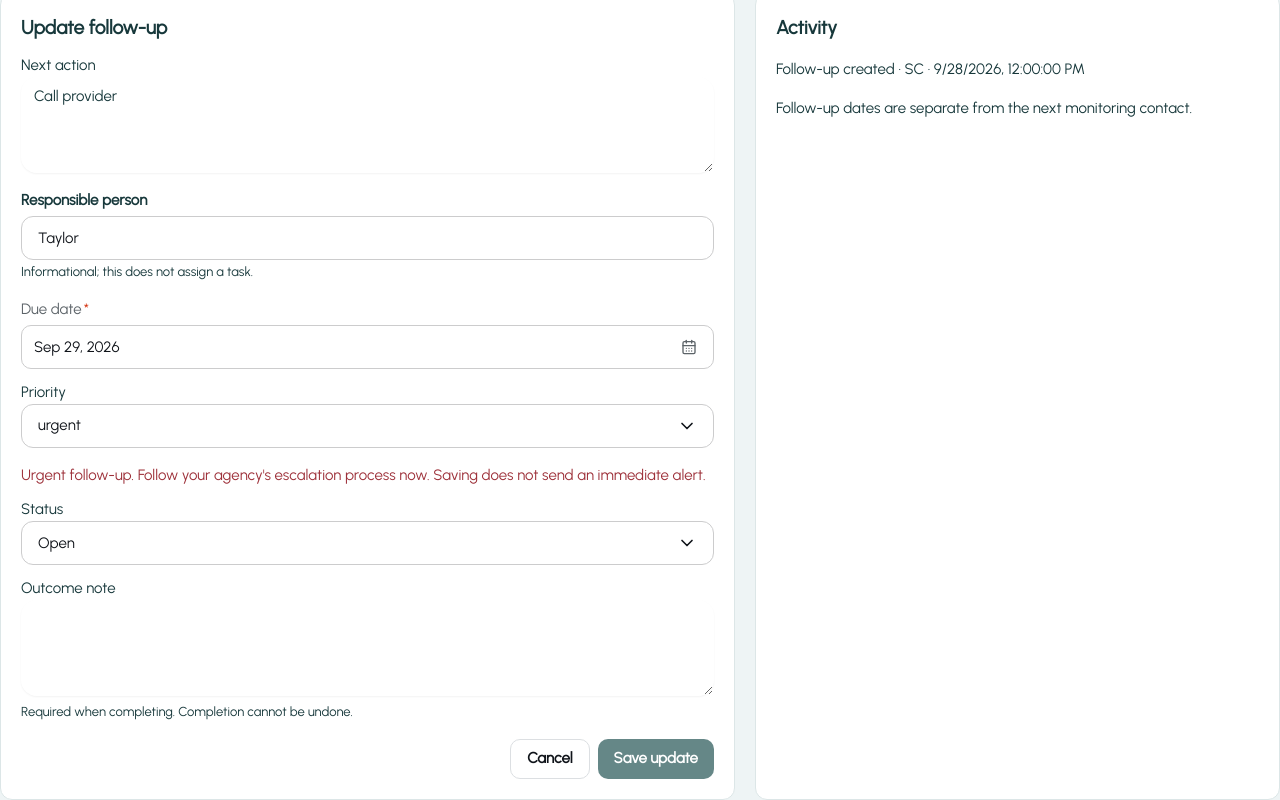
Test: requires outcome, saves only status/outcome/revision and reports success
Later steps or results of the test are not shown.
(page scrolled)
Expected: the text "Urgent follow-up. Follow your agency's escalation process now" is shown, [21,466,706,484]
Click the dropdown named "Status": (56, 543) [21,521,714,565]
(page scrolled)
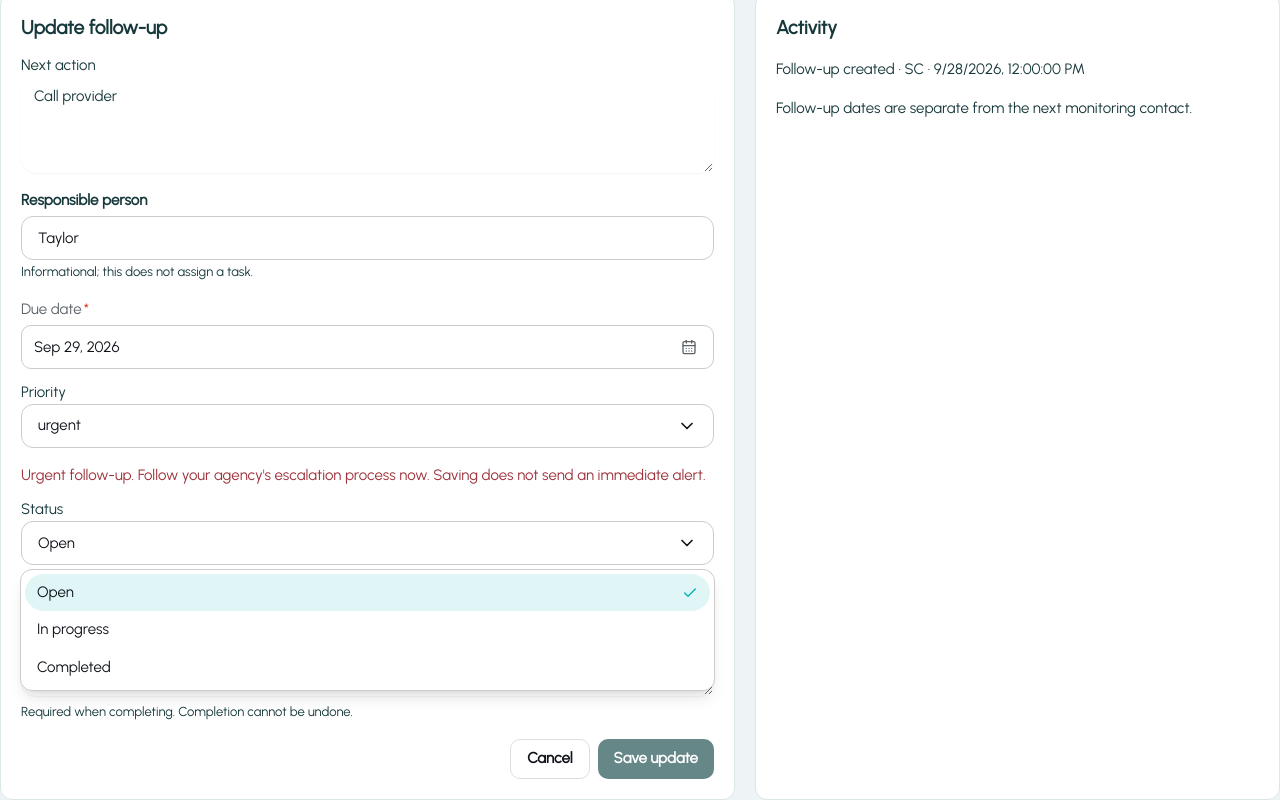
Click the option "Completed": (74, 667) [37,658,111,676]
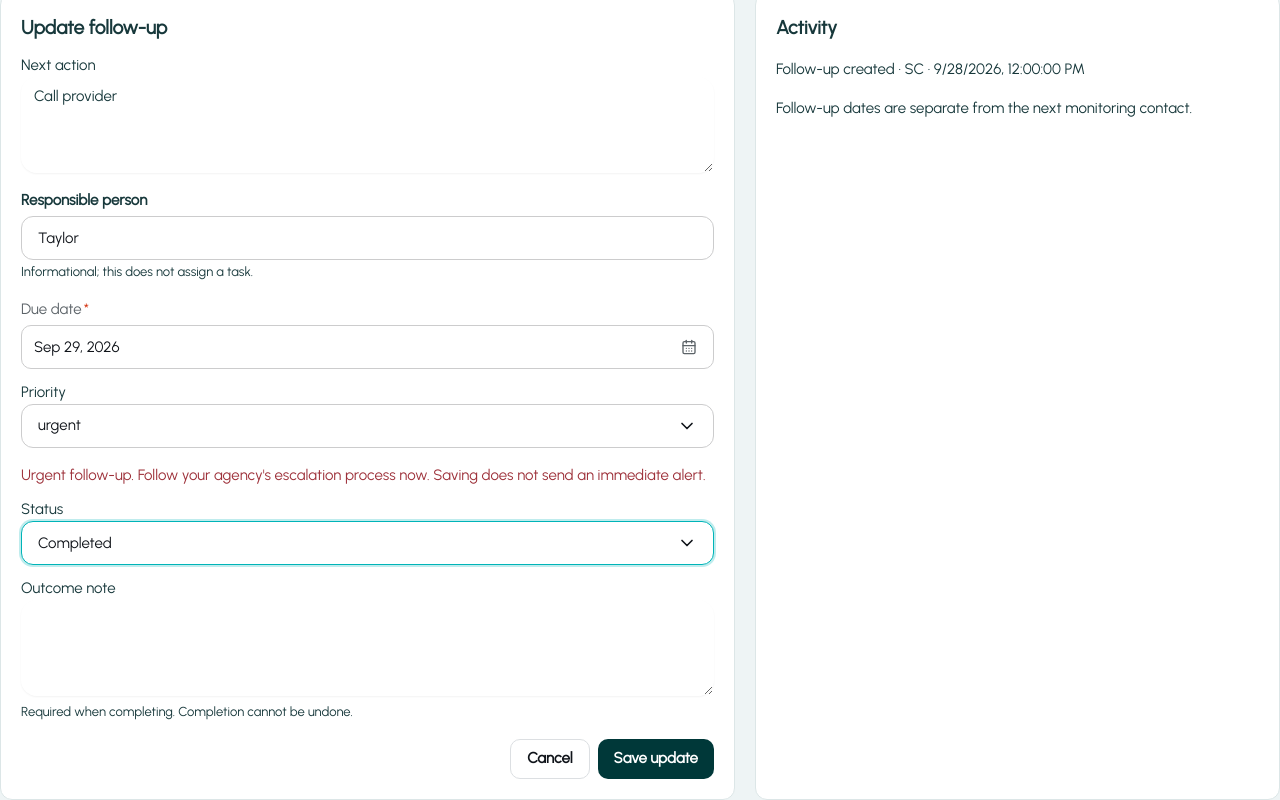
Click the button "Save update": (656, 759) [598,739,714,779]
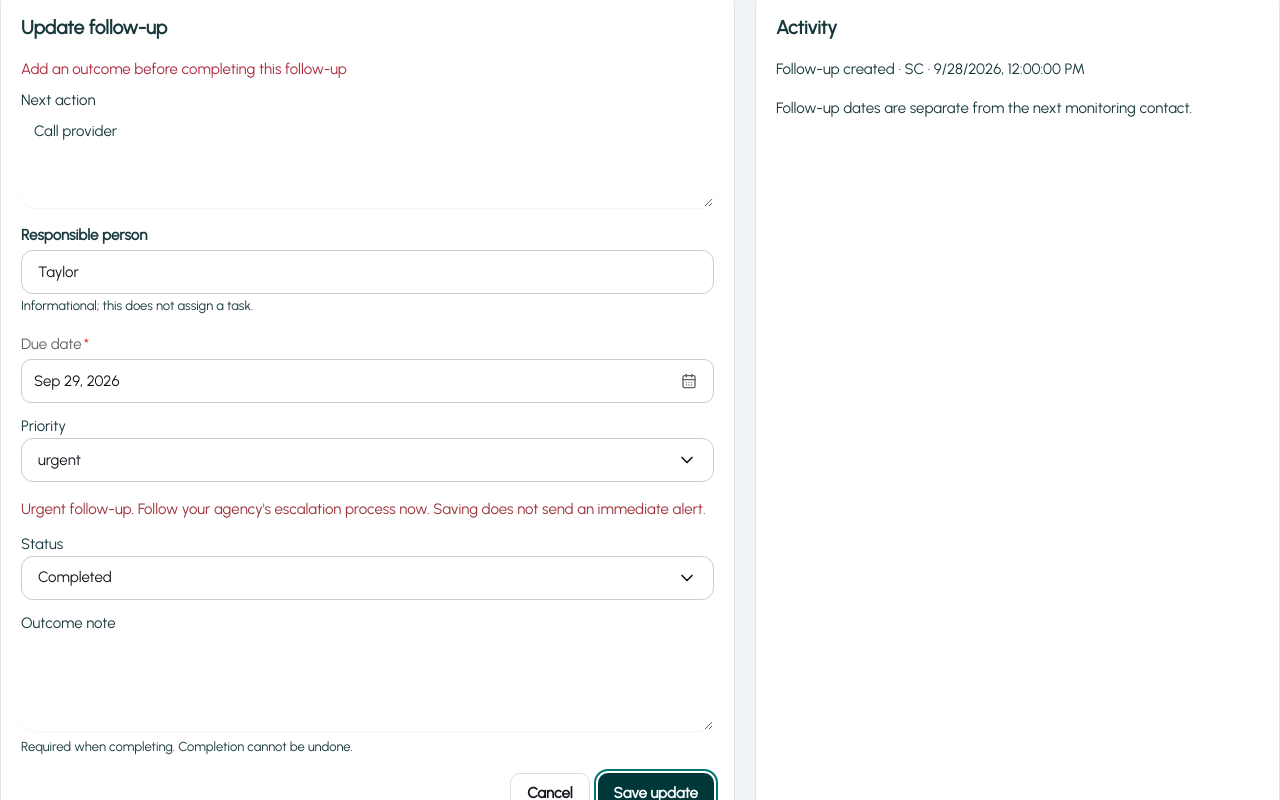
Now the message reads "Add an outcome before completing this follow-up", box [21,60,347,78]
